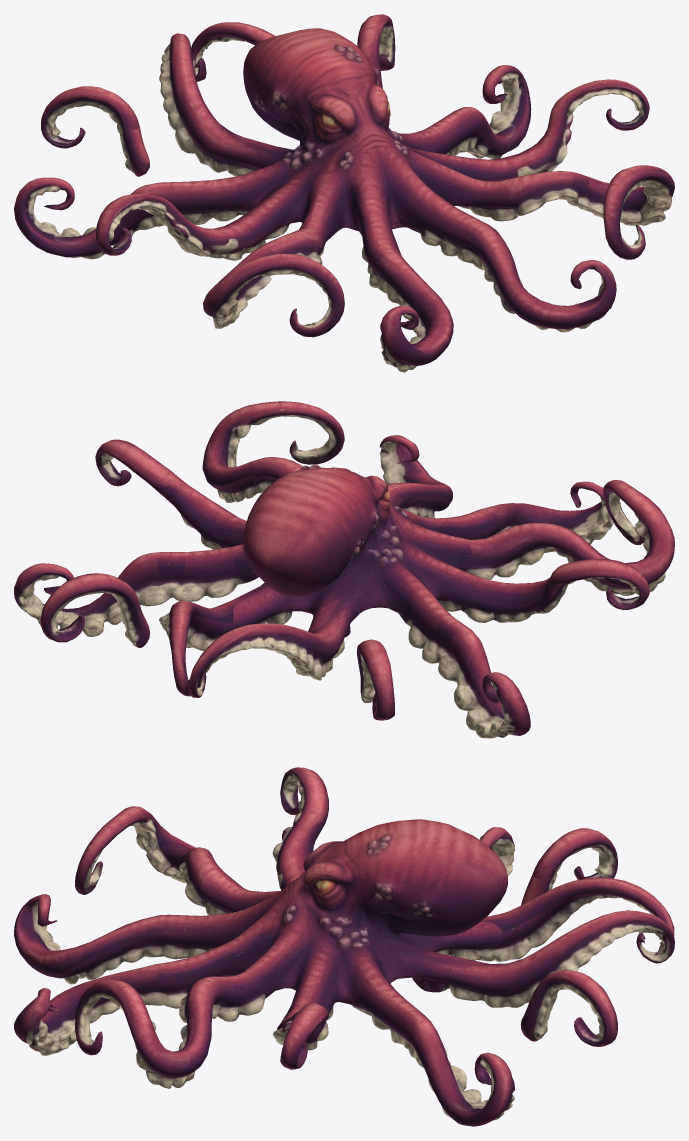
File: te_wheke.glb
3 renders of one model, top to bottom at view 1: azimuth 30°, elevation 25°; view 2: azimuth 150°, elevation 25°; view 3: azimuth 270°, elevation 25°, orthographic.
Size of the model in its own units: 1.86 by 0.5961 by 1.9.
1 material, 1 textured.
